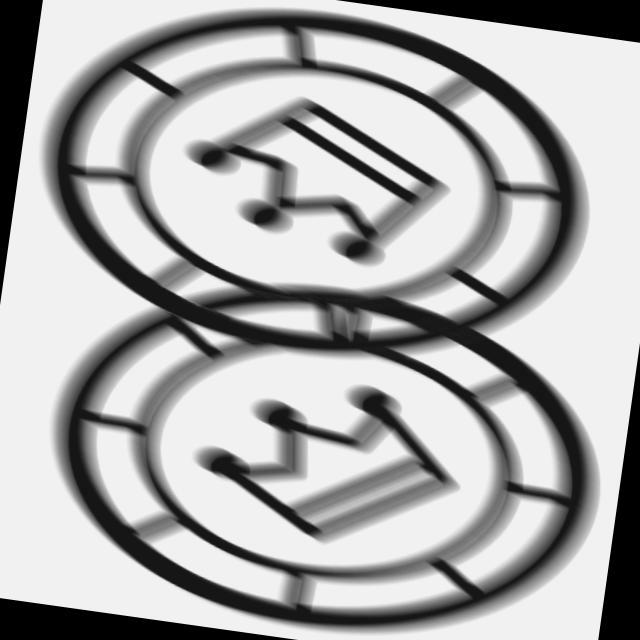coin: (17, 241, 629, 640), (15, 1, 623, 402)
